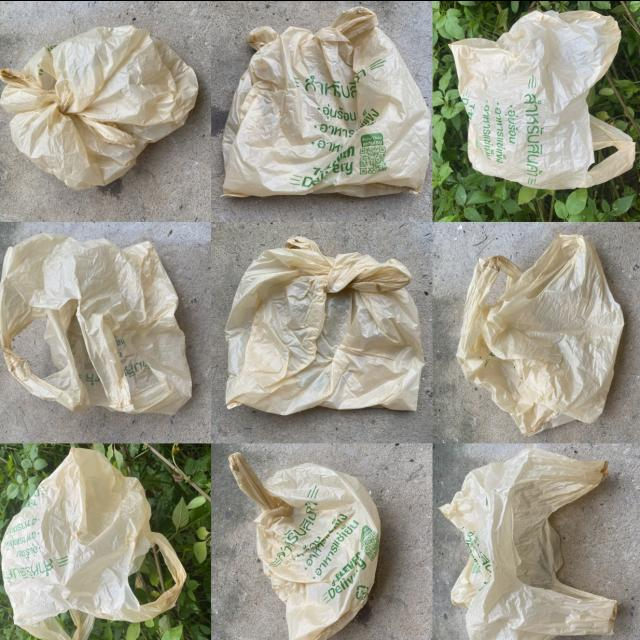plastik: (223, 6, 430, 195), (1, 447, 186, 640), (226, 236, 424, 413), (0, 233, 191, 413), (440, 445, 616, 640), (457, 234, 624, 434), (0, 24, 199, 189), (450, 11, 635, 188), (230, 452, 380, 640)
